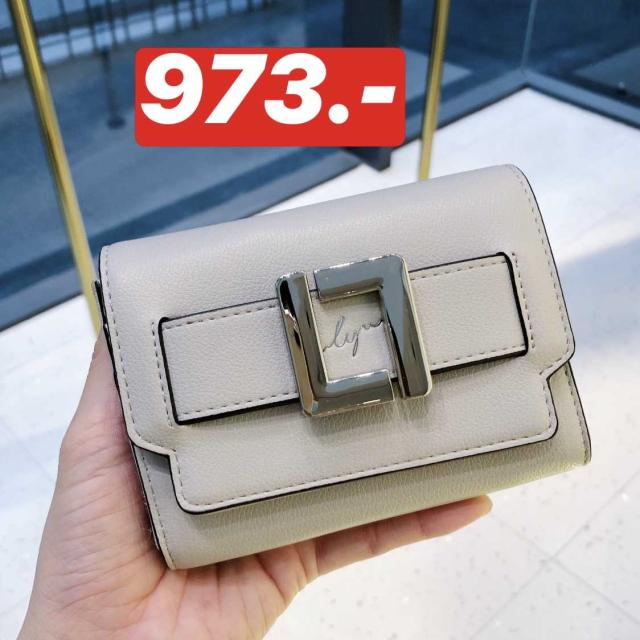handbag: (99, 162, 596, 568)
